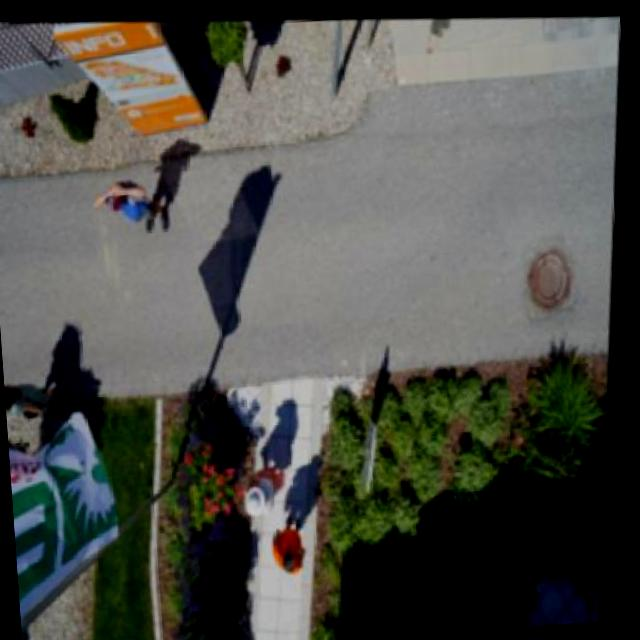Person: (88, 166, 182, 242), (269, 507, 324, 572), (4, 372, 72, 424), (568, 550, 616, 622), (242, 454, 296, 516)
